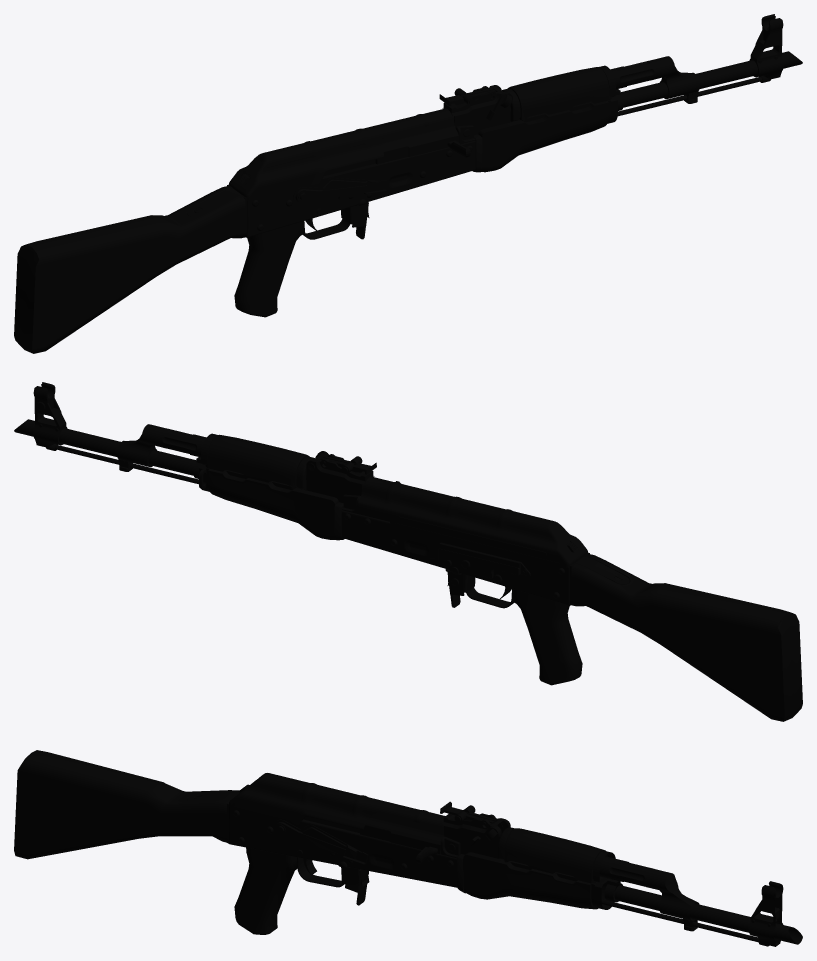
The model's file is cpaten.glb.
The picture shows the model from 3 angles, top to bottom: view 1: azimuth 30°, elevation 25°; view 2: azimuth 150°, elevation 25°; view 3: azimuth 330°, elevation 25°; orthographic projection.
Parts seen in each view (by area): view 1: Gun_Root; view 2: Gun_Root; view 3: Gun_Root.
Boxes of the visible parts, <box> form: Gun_Root: <box>14,14,802,353</box>; Gun_Root: <box>14,382,802,721</box>; Gun_Root: <box>14,750,802,946</box>.
Bounding box in the file's own units: 0.858 × 0.1805 × 0.0723.
1 material, 1 textured.
